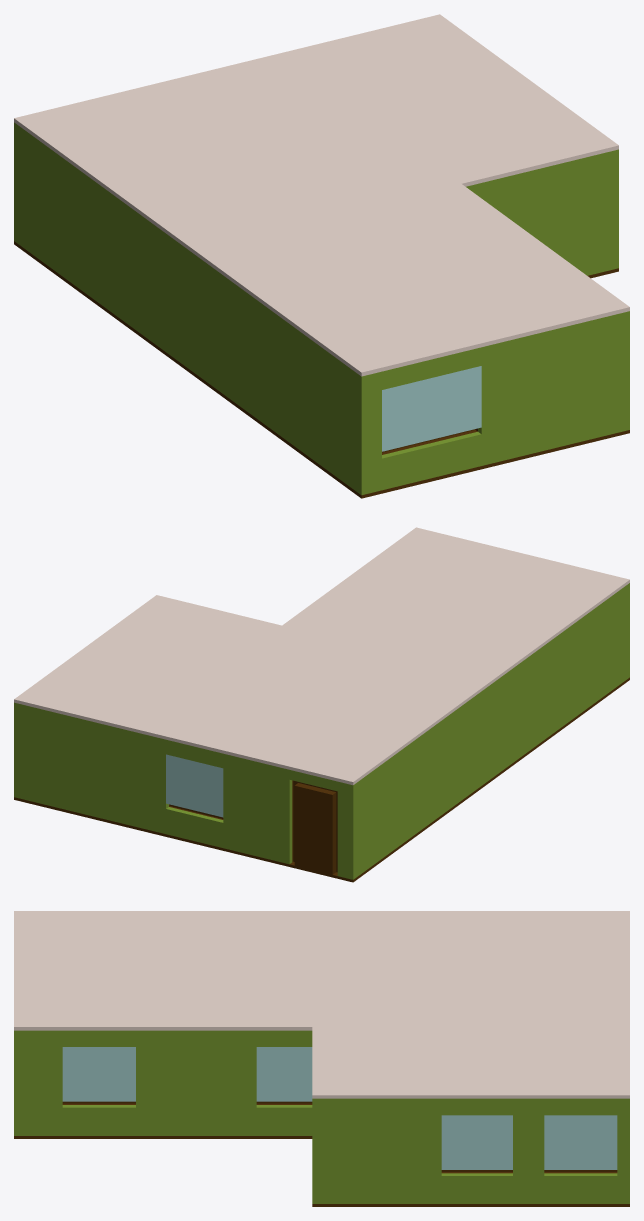
Rendered from apartment_v4001_colours.fbx.
3 views of the same model, one above another, from view 1: azimuth 30°, elevation 25°; view 2: azimuth 150°, elevation 25°; view 3: azimuth 270°, elevation 25° (orthographic). The views are drawn at different scales.
Parts seen in each view (by area): view 1: _ceiling, _walls, _windows, _floor; view 2: _ceiling, _walls, _wood, _windows, _floor; view 3: _ceiling, _walls, _windows, _floor, _wood.
Part boxes in pixels (bbox=[...]): _ceiling: bbox=[14, 14, 629, 376]; _walls: bbox=[14, 122, 629, 495]; _windows: bbox=[382, 366, 481, 451]; _floor: bbox=[14, 241, 629, 498]; _ceiling: bbox=[14, 527, 629, 785]; _walls: bbox=[14, 583, 629, 879]; _wood: bbox=[169, 780, 337, 874]; _windows: bbox=[166, 754, 223, 817]; _floor: bbox=[14, 677, 629, 882]; _ceiling: bbox=[14, 911, 629, 1098]; _walls: bbox=[14, 1030, 629, 1203]; _windows: bbox=[62, 1047, 617, 1169]; _floor: bbox=[14, 1136, 629, 1206]; _wood: bbox=[62, 1101, 617, 1173].
Bounding box in the file's own units: 18.02 × 5.1 × 25.46.
